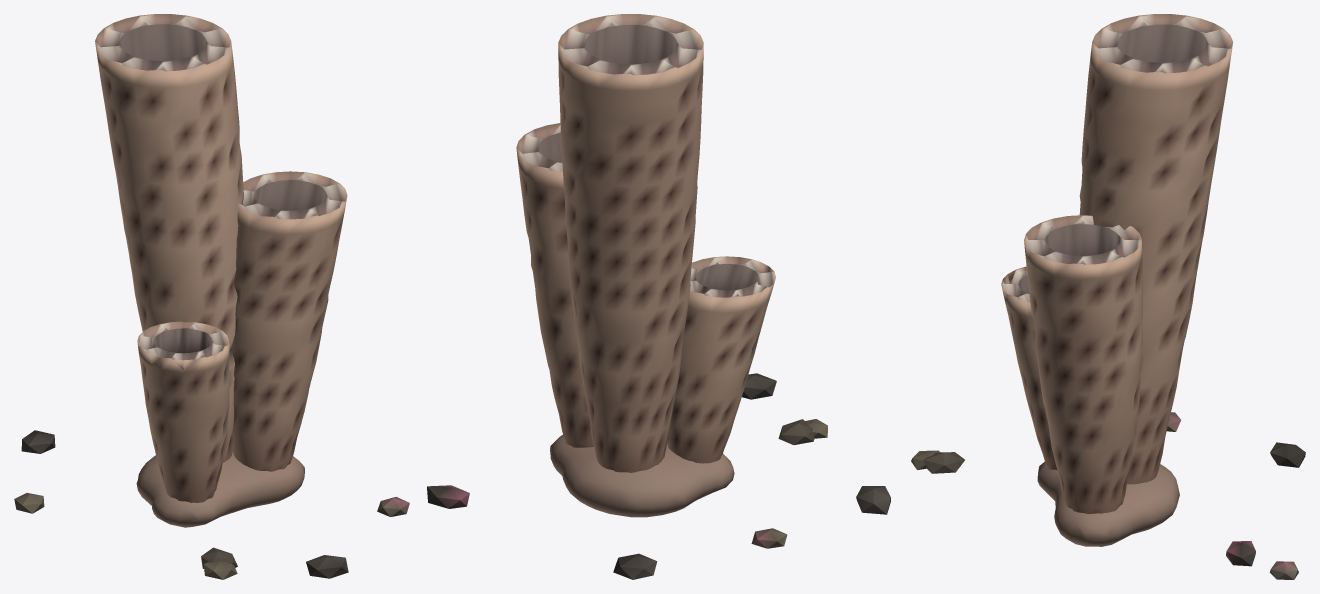
The model's file is Antarcticocyathus.fbx.
The picture shows the model from 3 angles, left to right: view 1: azimuth 30°, elevation 25°; view 2: azimuth 150°, elevation 25°; view 3: azimuth 270°, elevation 25°; orthographic projection. The views are drawn at different scales.
Parts seen in each view (by area): view 1: Antarcticocyathus; view 2: Antarcticocyathus; view 3: Antarcticocyathus.
Part boxes in pixels (x1,y1,x2,y2): Antarcticocyathus: (14, 14, 348, 579); Antarcticocyathus: (377, 14, 827, 579); Antarcticocyathus: (856, 14, 1305, 579).
Size of the model in its own units: 1.01 by 1.36 by 1.18.
